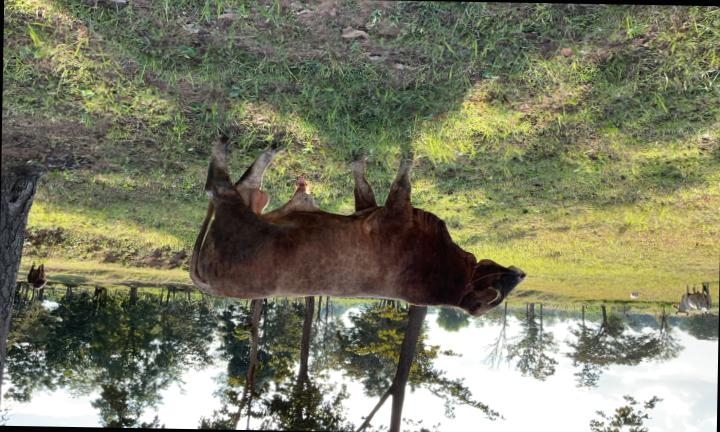Charolais: (190, 139, 525, 316)
